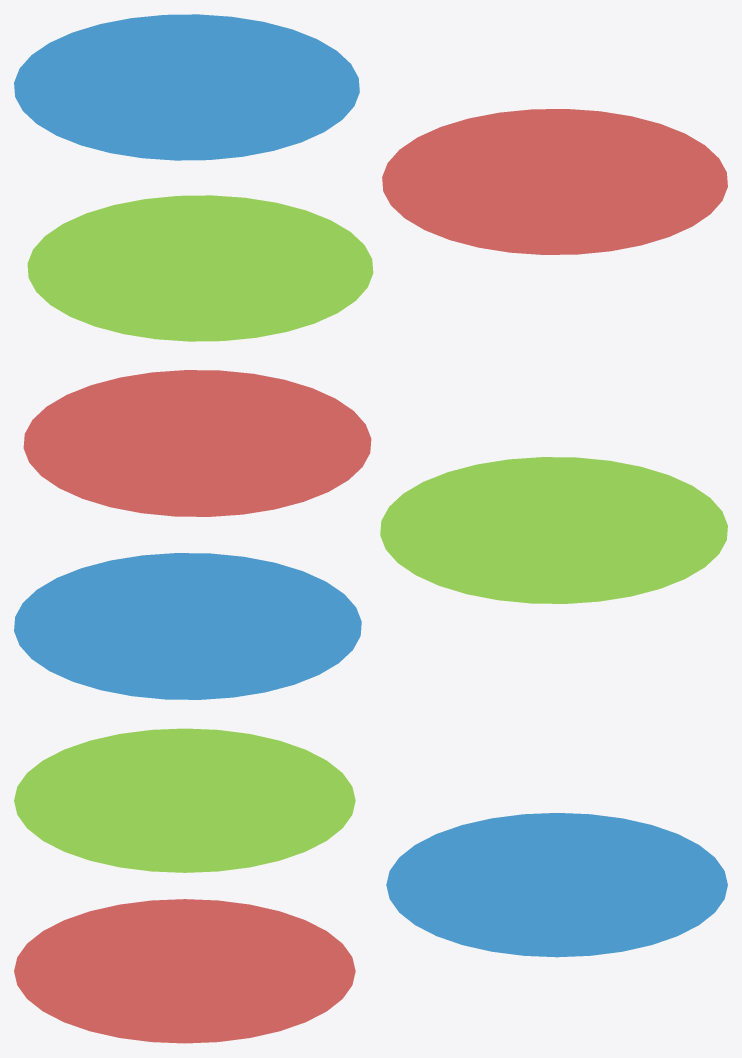
File: Floor.glb
3 renders of one model, top to bottom at view 1: azimuth 30°, elevation 25°; view 2: azimuth 150°, elevation 25°; view 3: azimuth 270°, elevation 25°, orthographic. The views are drawn at different scales.
Parts seen in each view (by area): view 1: Circle.001, Circle, Circle.002; view 2: Circle.002, Circle.001, Circle; view 3: Circle.001, Circle.002, Circle.
Boxes of the visible parts, x1=… form: Circle.001: x1=27, y1=195, x2=373, y2=341; Circle: x1=14, y1=14, x2=359, y2=160; Circle.002: x1=382, y1=109, x2=727, y2=254; Circle.002: x1=23, y1=370, x2=371, y2=516; Circle.001: x1=380, y1=457, x2=727, y2=603; Circle: x1=14, y1=553, x2=361, y2=699; Circle.001: x1=14, y1=728, x2=355, y2=872; Circle.002: x1=14, y1=899, x2=355, y2=1043; Circle: x1=386, y1=813, x2=727, y2=957.
Bounding box in the file's own units: 85.48 × 0 × 81.88.
